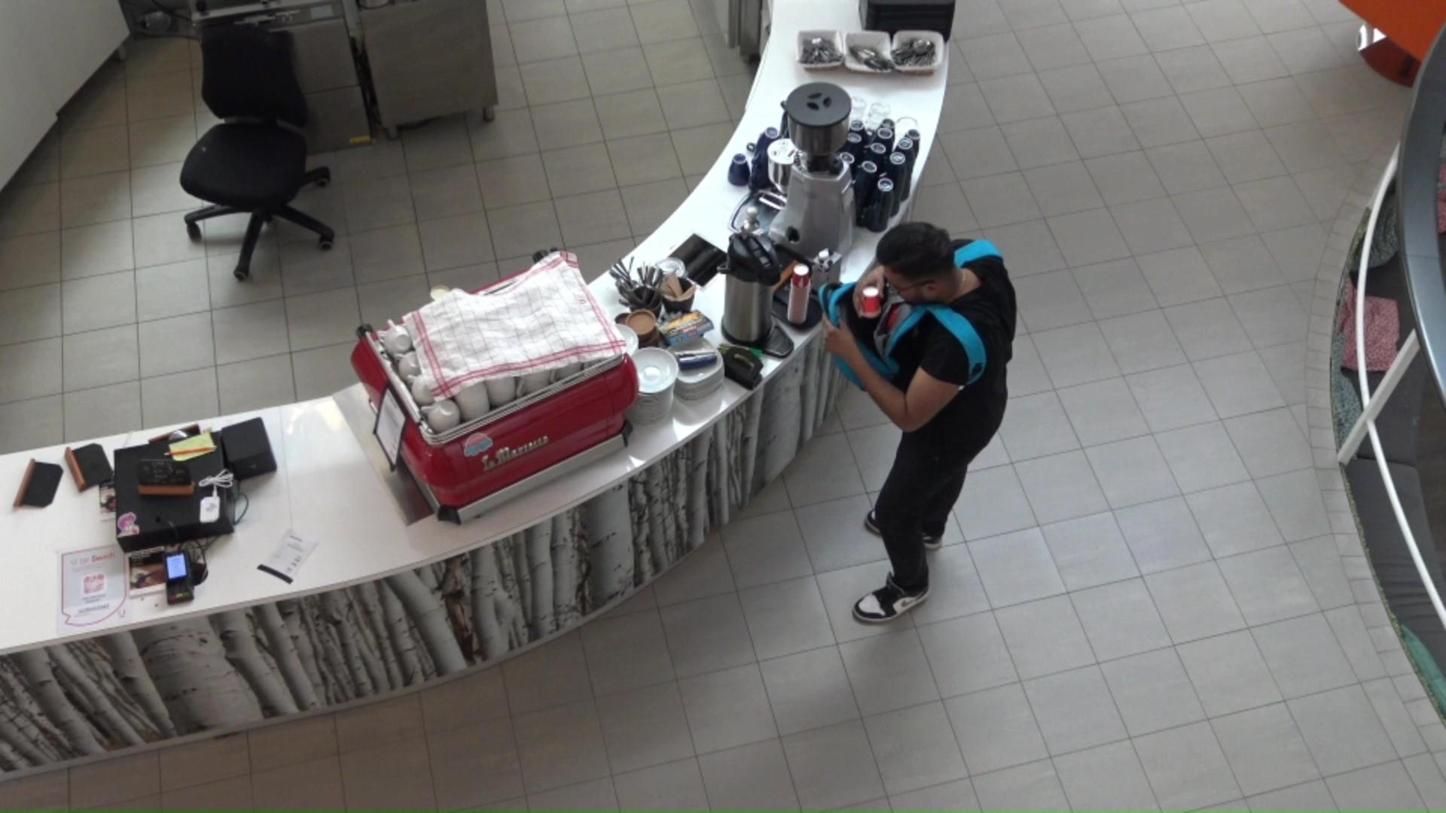shoplifting: (829, 226, 1021, 625)
